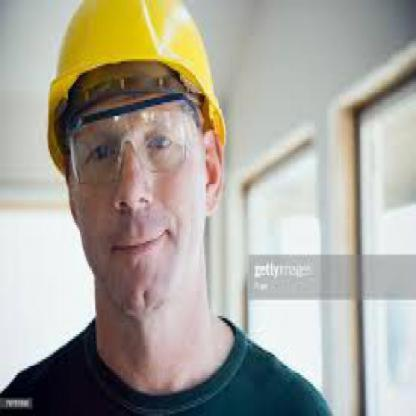glass: (54, 87, 200, 194)
person: (11, 5, 330, 414)
yellow-helm: (36, 4, 242, 143)
